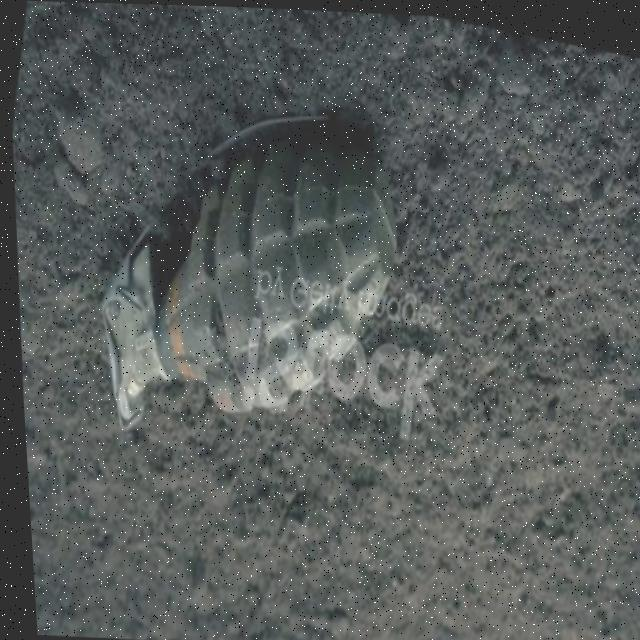grenade: (58, 55, 432, 480)
